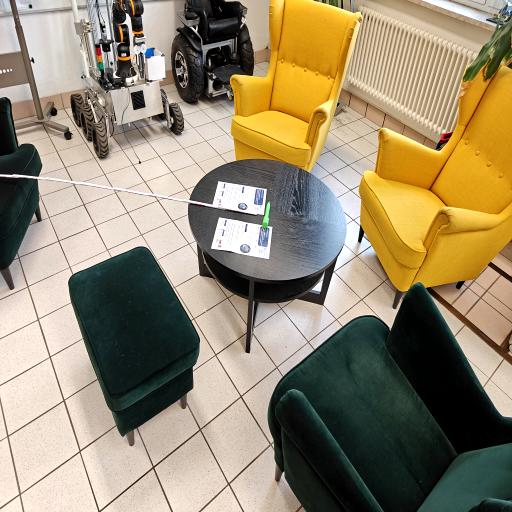Probe-Detection: (262, 202, 270, 228)
